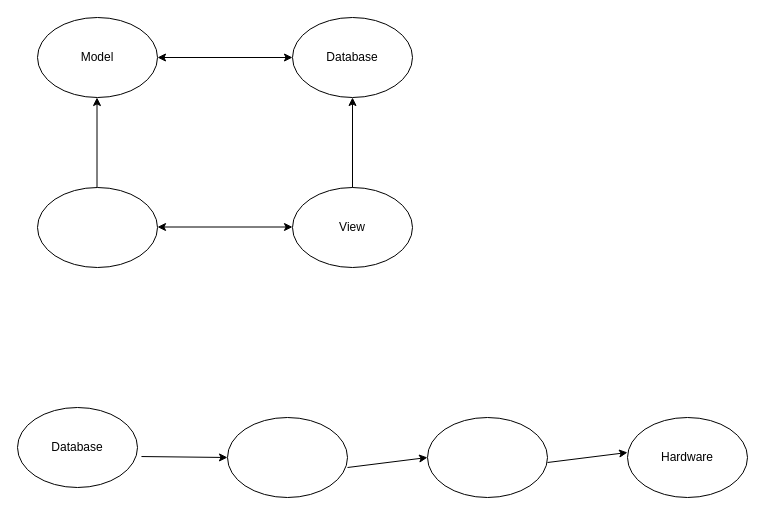
This 765x515 diagram has some shape labels left out. The shapes that lost their labels are listed below. From the top down, each one's centre as x and y in pixels, then its label:
At pixel 97 227: "Controller".
At pixel 287 457: "API".
At pixel 487 457: "MVC".
